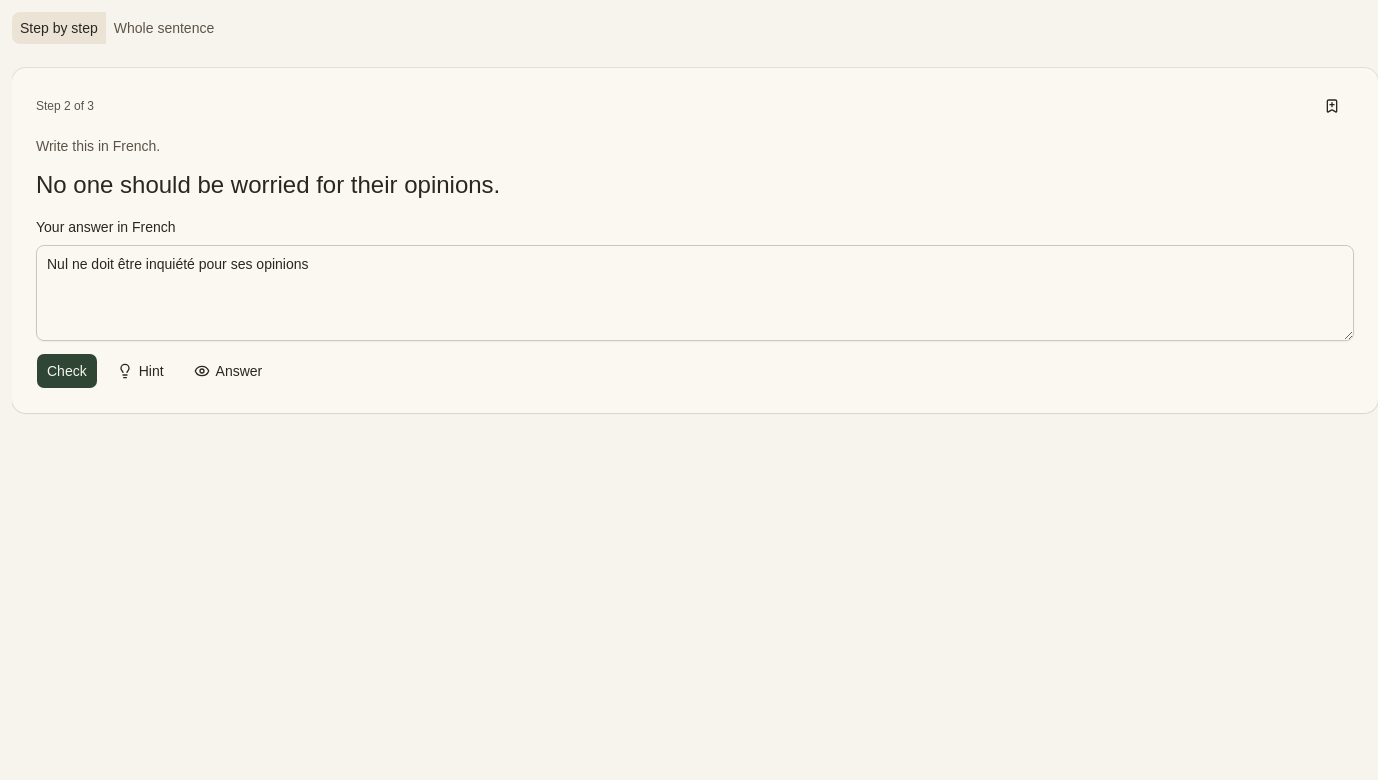
Test: keeps a full score visible with animation disabled by setting
The image size is (1378, 780).
Click the button "Answer" at (228, 371), box [183,353,273,389]
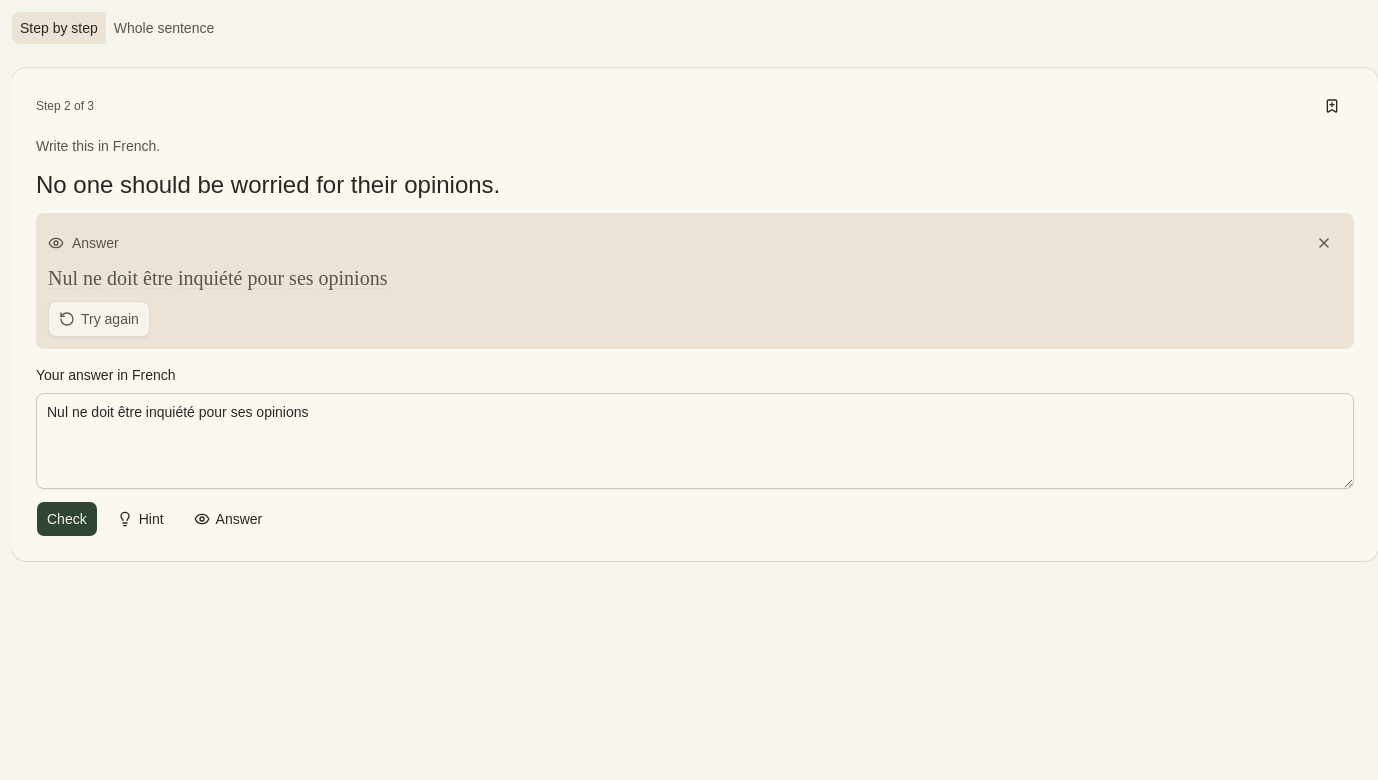
Click the button named "Hide answer" at (1324, 243), box [1306,225,1342,261]
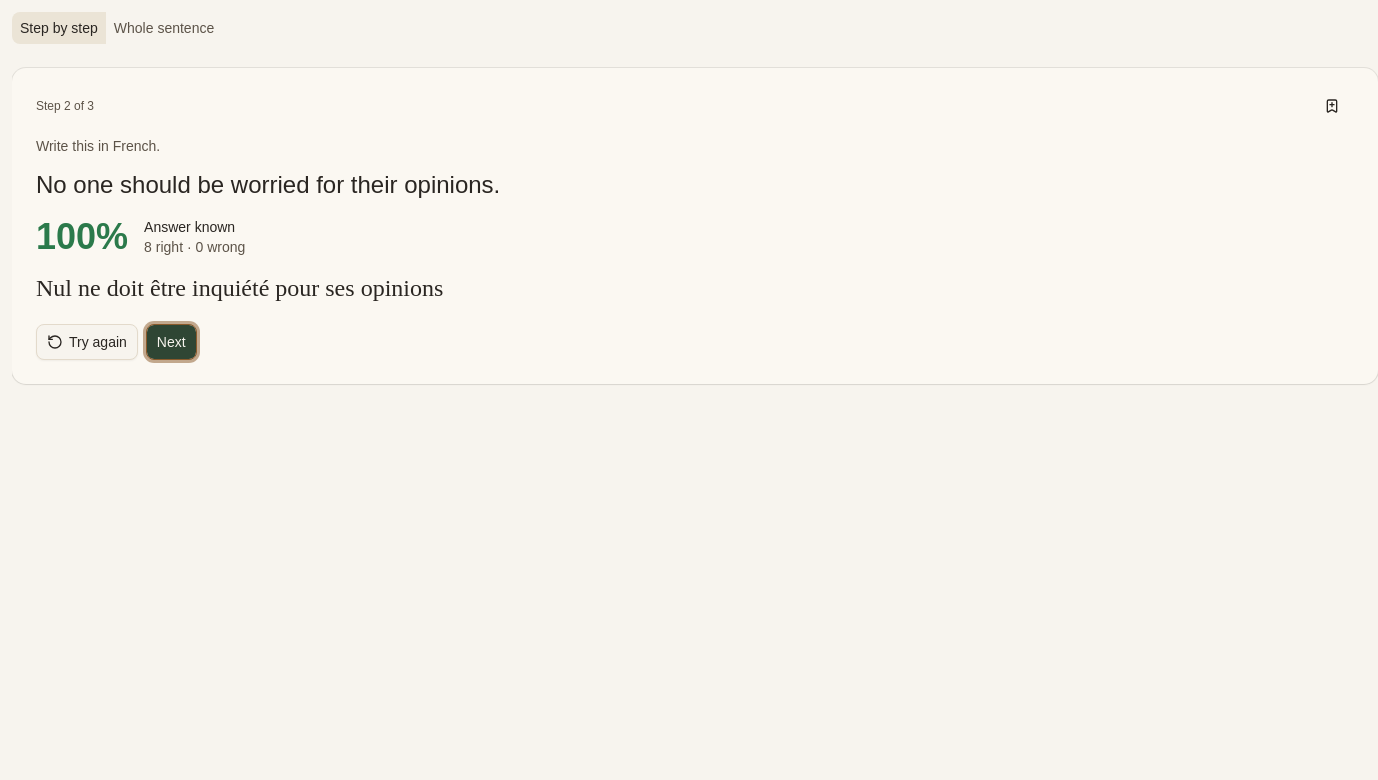
Result: the text named "Score: 100%" is shown at [36,217,128,257]
